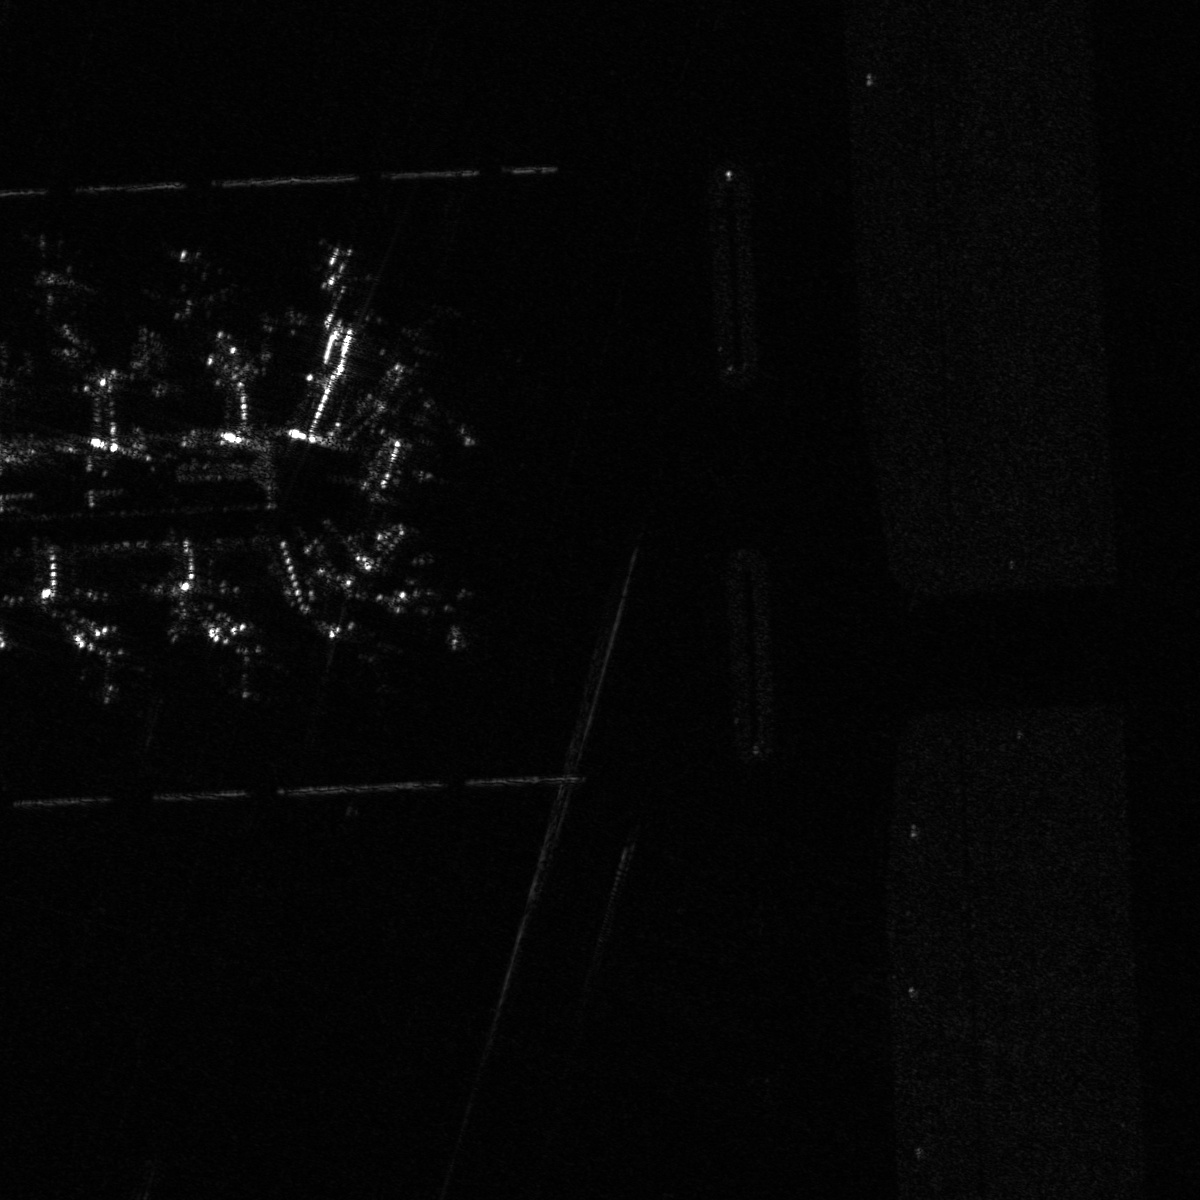A220: (386, 386, 462, 449), (385, 308, 449, 376)
A320/321: (129, 240, 251, 325), (200, 608, 290, 707), (1, 227, 100, 310), (365, 549, 458, 629), (296, 236, 384, 296)
Boeing737: (313, 612, 398, 674)
Boeing787: (70, 613, 152, 719)
